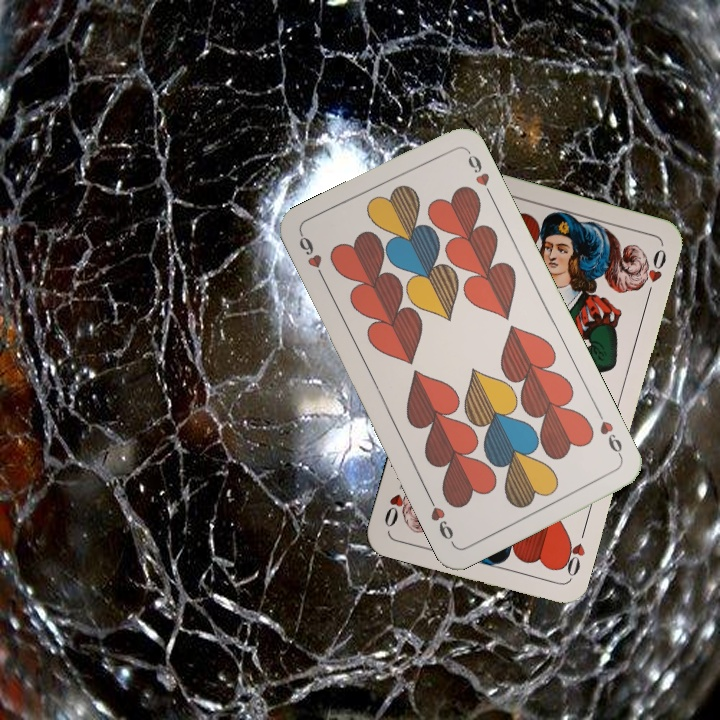H9: (295, 230, 329, 286), (593, 407, 626, 462)
HO: (556, 523, 589, 581)
